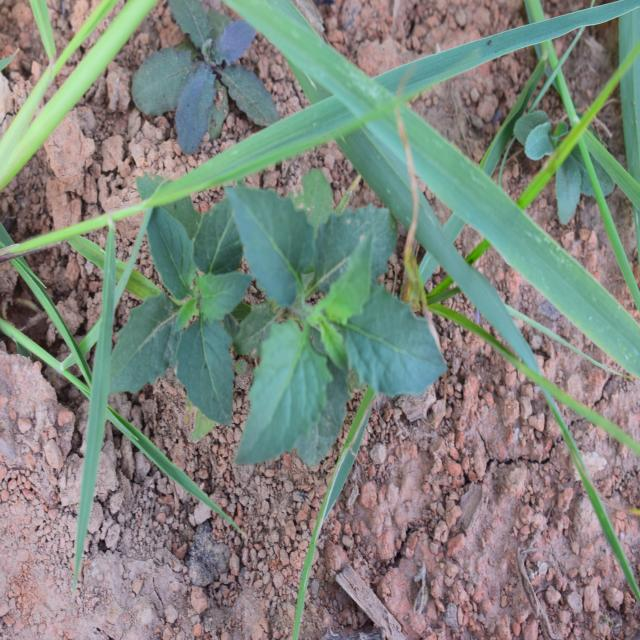Black_nightshade: (236, 177, 449, 478), (119, 197, 255, 458)
